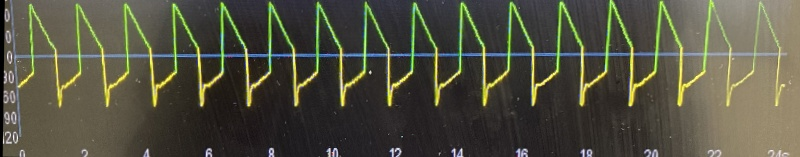peepi: (19, 0, 794, 112)
